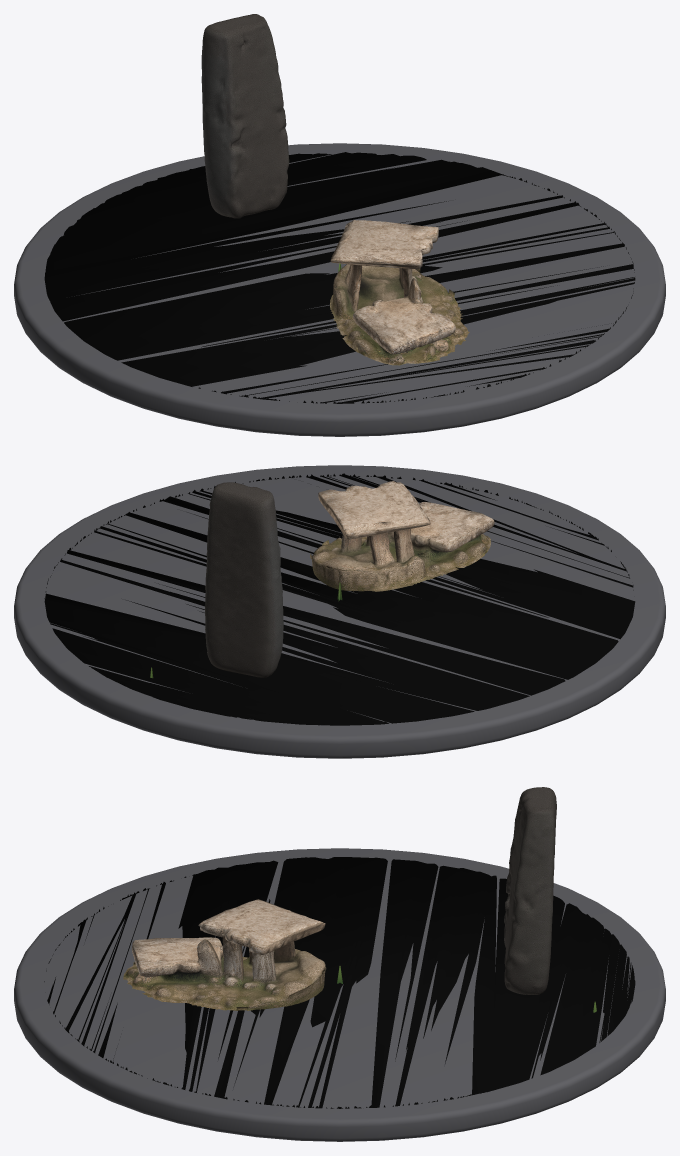
File: jatim.glb
The picture shows the model from 3 angles, top to bottom: view 1: azimuth 30°, elevation 25°; view 2: azimuth 150°, elevation 25°; view 3: azimuth 270°, elevation 25°; orthographic projection.
Parts seen in each view (by area): view 1: GEO-alas, GEO-tanah, GEO-menhir, GEO-dolmen; view 2: GEO-alas, GEO-tanah, GEO-dolmen, GEO-menhir; view 3: GEO-alas, GEO-tanah, GEO-dolmen, GEO-menhir.
Boxes of the visible parts, <box> form: GEO-alas: <box>14,143,665,436</box>; GEO-tanah: <box>44,152,635,403</box>; GEO-menhir: <box>201,14,289,218</box>; GEO-dolmen: <box>330,220,469,365</box>; GEO-alas: <box>14,465,665,758</box>; GEO-tanah: <box>44,473,635,725</box>; GEO-dolmen: <box>310,481,494,591</box>; GEO-menhir: <box>205,482,283,677</box>; GEO-alas: <box>14,848,665,1141</box>; GEO-tanah: <box>44,857,635,1108</box>; GEO-dolmen: <box>123,899,326,1010</box>; GEO-menhir: <box>504,787,556,994</box>.
Size of the model in its own units: 3.2 by 1.12 by 3.2.
Materials: 5 (4 with a texture image).
